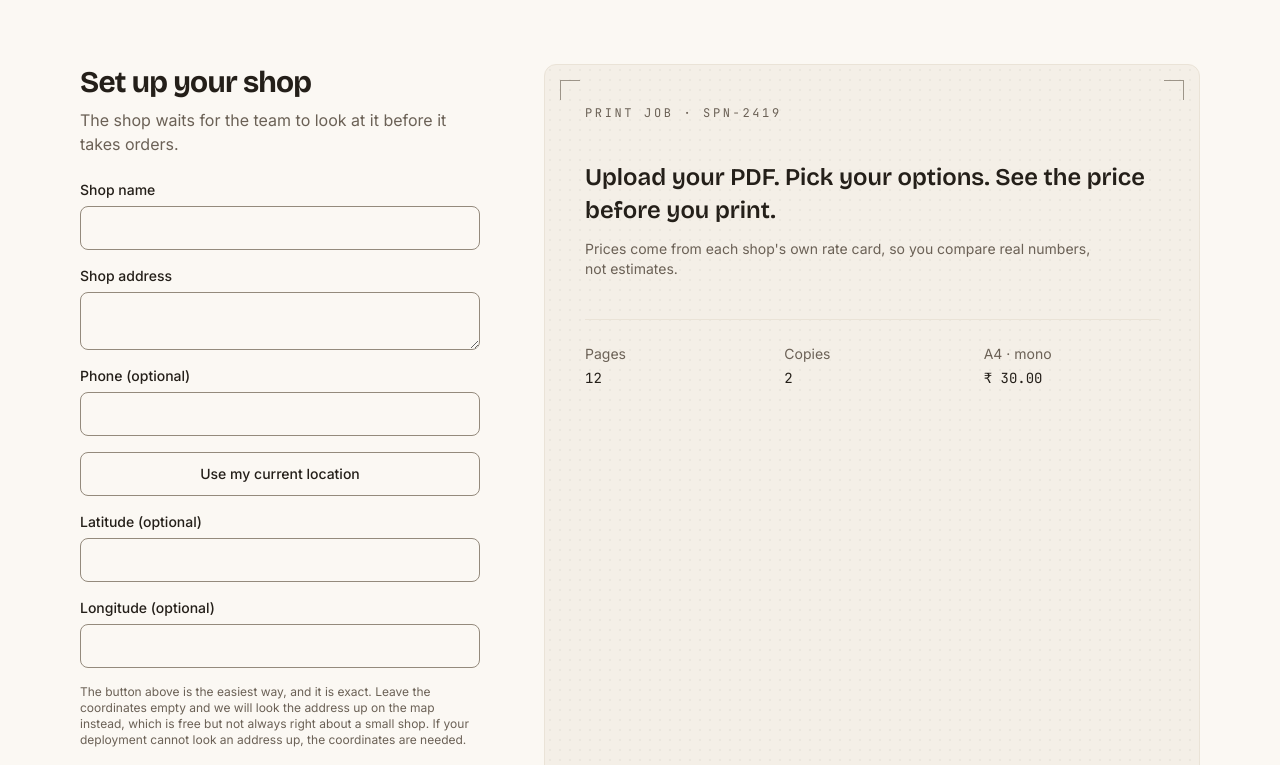
Test case: the onboarding page › says so when the browser will not share a location
Click the button "Use my current location": (280, 474) 80,452 -> 480,496
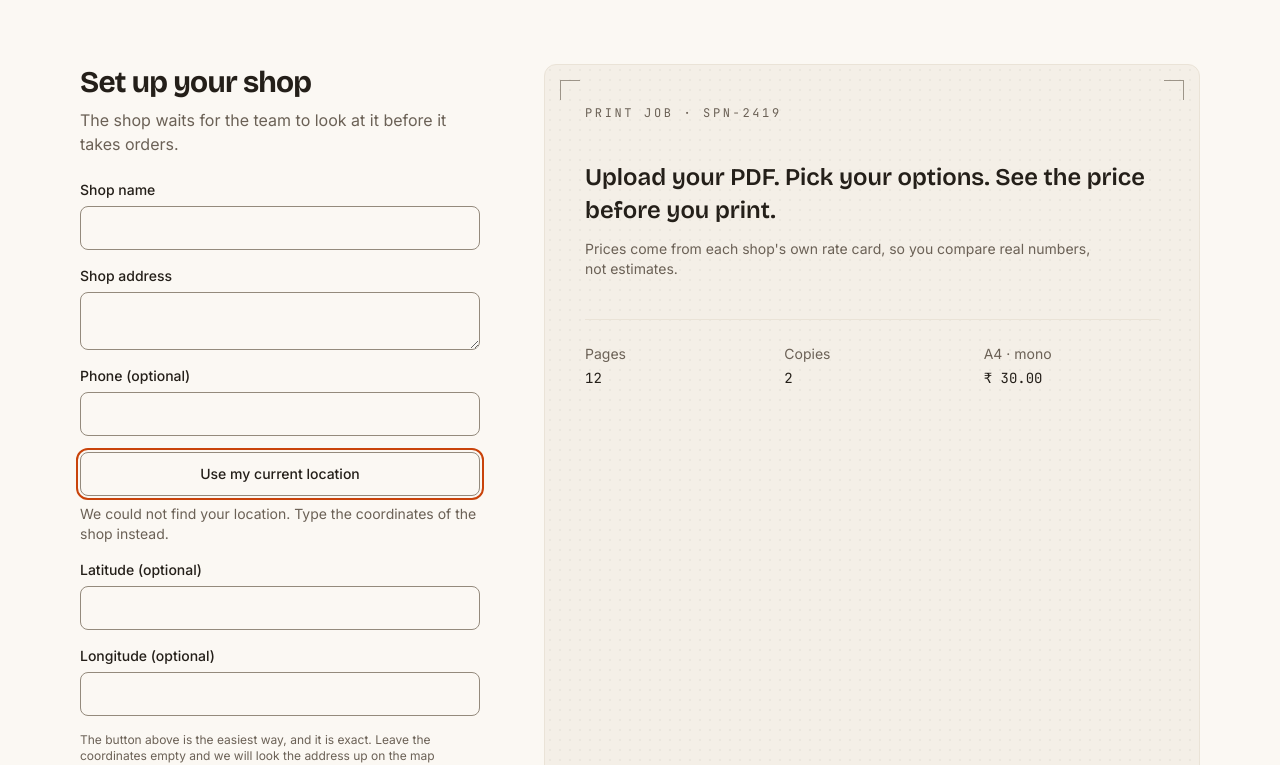
Check: the text "We could not find your location. Type the coordinates of the shop instead." is shown, box 80,504 -> 480,544
